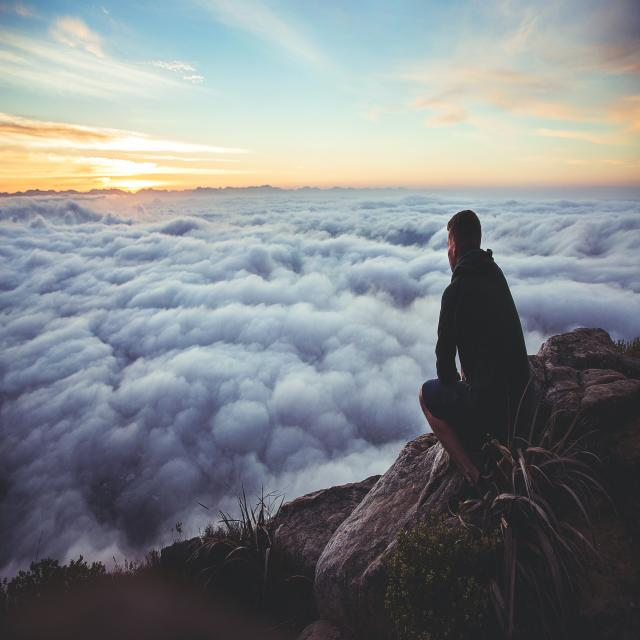adult: (418, 208, 533, 516)
